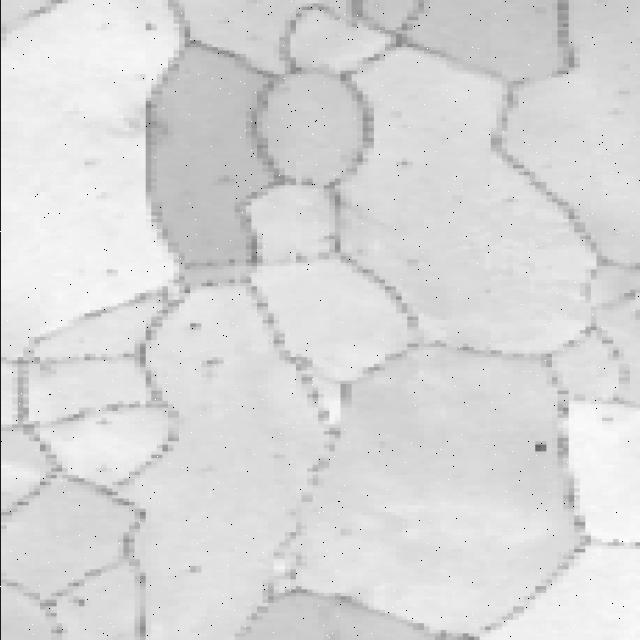good_void: (196, 358, 226, 378), (138, 16, 159, 35), (184, 561, 205, 579), (66, 596, 90, 611), (532, 438, 551, 456), (386, 159, 417, 170), (89, 416, 113, 428), (184, 320, 205, 332), (105, 266, 123, 279)
